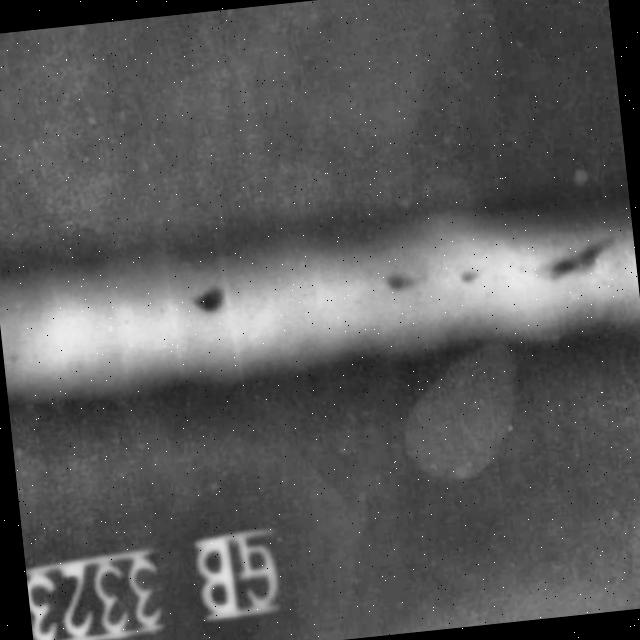Slag: (361, 214, 621, 314), (180, 282, 240, 328)
